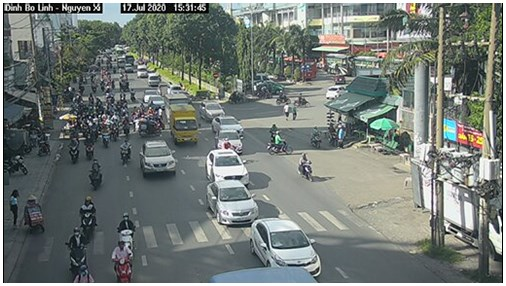di_bo: (6, 186, 22, 232), (282, 102, 290, 121), (292, 104, 298, 123)
xe_hoi: (249, 218, 323, 277), (204, 180, 258, 225), (204, 148, 251, 185), (137, 140, 178, 180), (208, 115, 246, 139), (215, 129, 244, 154), (198, 99, 225, 121)
xe_may: (108, 240, 136, 283), (64, 225, 89, 273), (115, 210, 137, 253), (79, 194, 100, 236), (294, 152, 317, 182), (86, 156, 105, 190), (265, 132, 294, 154), (63, 135, 79, 161), (118, 138, 133, 165), (307, 125, 321, 150), (84, 133, 96, 157), (100, 124, 110, 147), (277, 89, 289, 104)
xe_tai: (168, 104, 200, 147)
